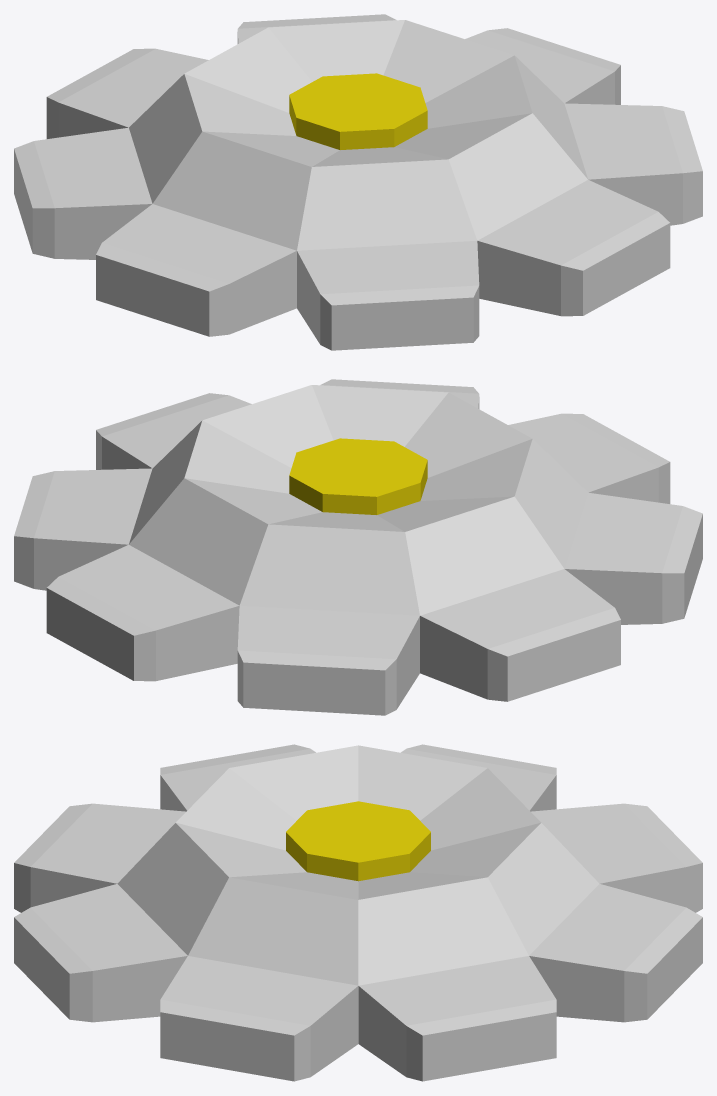
File: low-poly_flower.glb
The picture shows the model from 3 angles, top to bottom: view 1: azimuth 30°, elevation 25°; view 2: azimuth 150°, elevation 25°; view 3: azimuth 270°, elevation 25°; orthographic projection.
Parts seen in each view (by area): view 1: Circle; view 2: Circle; view 3: Circle.
Part boxes in pixels (box(x1,y1,x2,y2)): Circle: box(14, 14, 702, 350); Circle: box(14, 379, 702, 715); Circle: box(14, 744, 702, 1081).
Size of the model in its own units: 2.86 by 0.5469 by 2.86.
